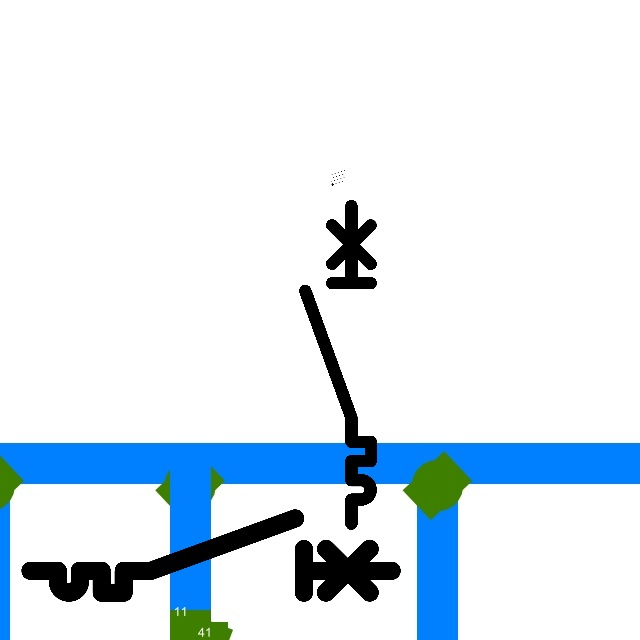interruptor_termomagnetico: (21, 509, 401, 602), (297, 197, 379, 531)
